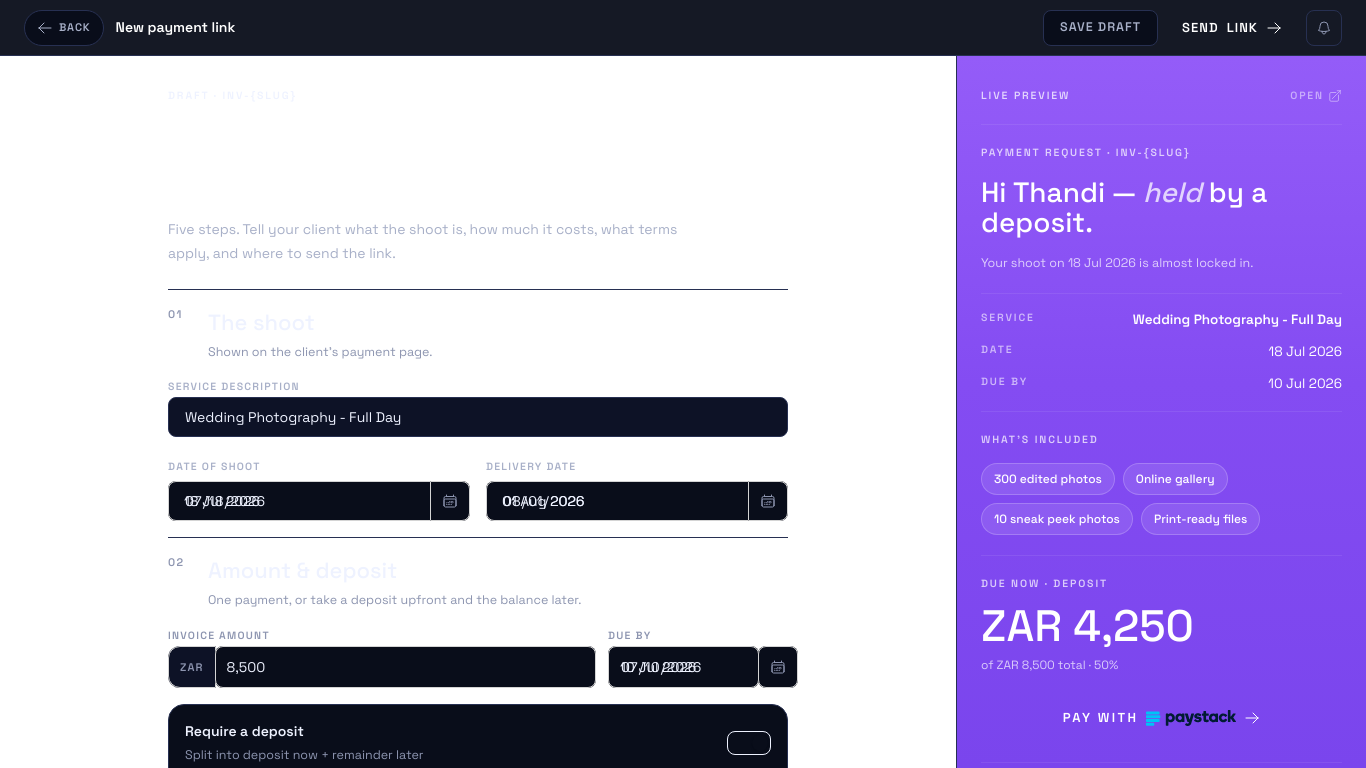
Scenario: CreatePaymentLinkPage layout › shows the sign-in modal when a guest sends a payment link
Click the button "Send link" at (1232, 28), box x1=1166 y1=10 x2=1298 y2=46
Wait 2500 ms
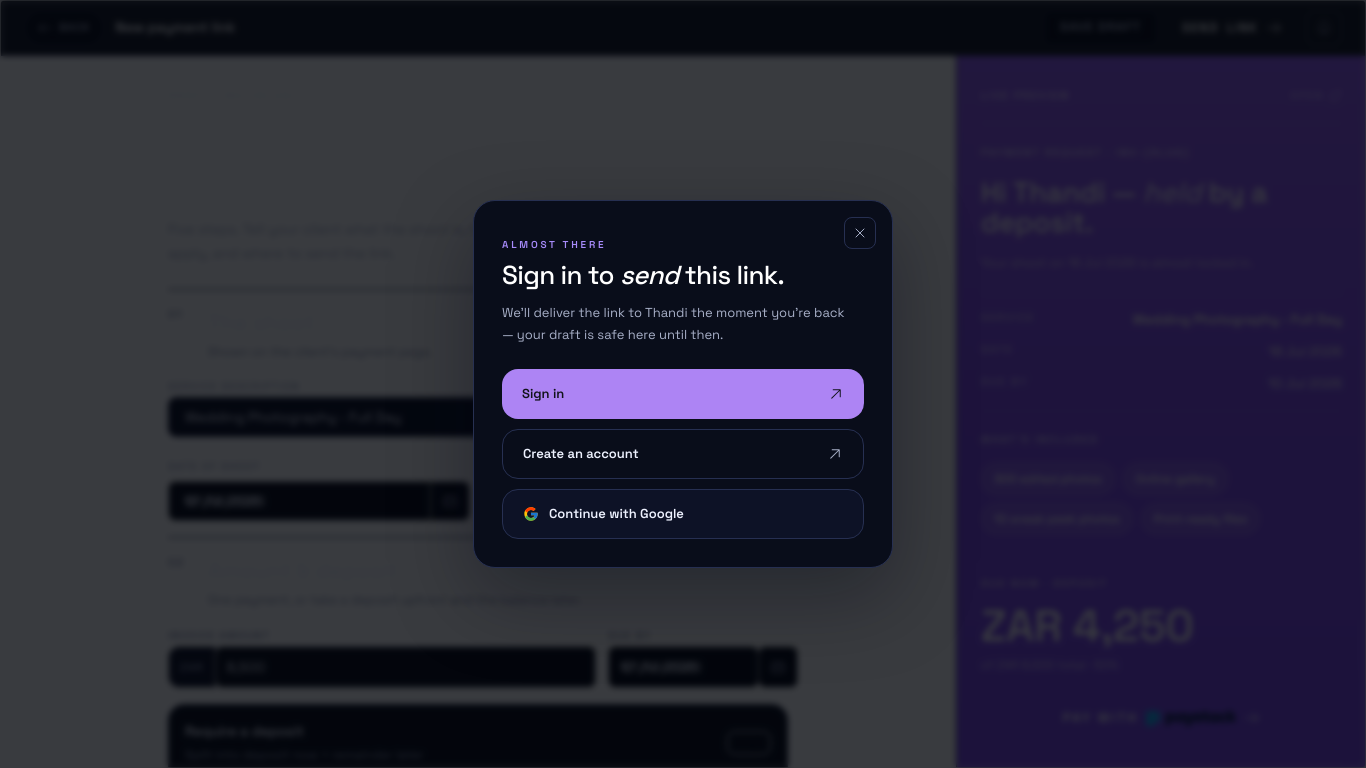
Result: the heading "Sign in to send this link." is shown at x1=502 y1=258 x2=784 y2=292
Result: the text "We'll deliver the link to Thandi" is shown at x1=502 y1=302 x2=852 y2=345
